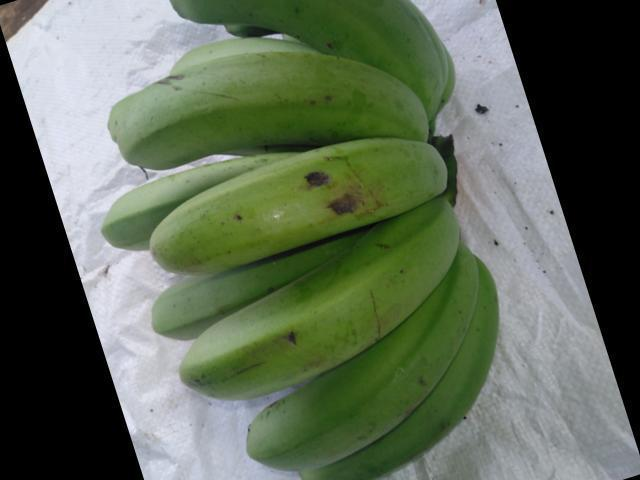unripe: (159, 206, 482, 407), (175, 139, 455, 277), (96, 56, 437, 161)
